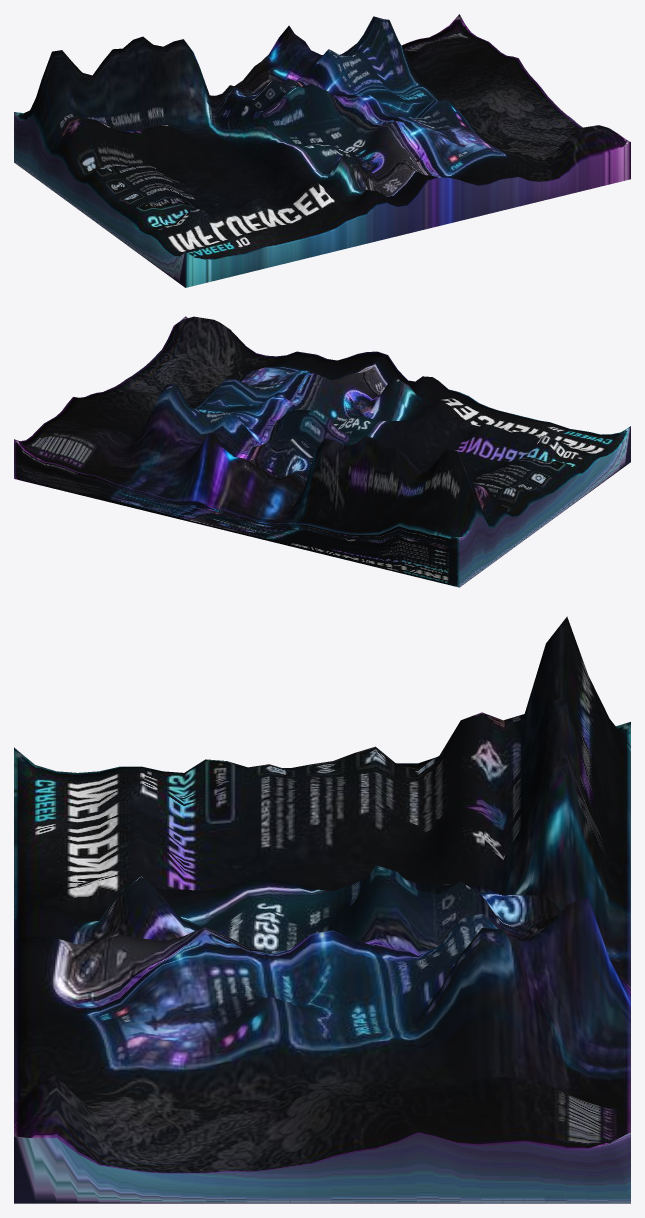
File: CAREER_10_Tool_01_Phone.glb
3 views of the same model, one above another, from view 1: azimuth 30°, elevation 25°; view 2: azimuth 150°, elevation 25°; view 3: azimuth 270°, elevation 25° (orthographic). The views are drawn at different scales.
Visible parts, largest first — view 1: CAREER_10_Tool_01_Phone; view 2: CAREER_10_Tool_01_Phone; view 3: CAREER_10_Tool_01_Phone.
Part boxes in pixels (left/top/right/bottom): CAREER_10_Tool_01_Phone: left=14, top=14, right=630, bottom=287; CAREER_10_Tool_01_Phone: left=14, top=316, right=630, bottom=587; CAREER_10_Tool_01_Phone: left=14, top=616, right=630, bottom=1203.
Size of the model in its own units: 2 by 0.51 by 1.33.
1 material, 1 textured.
